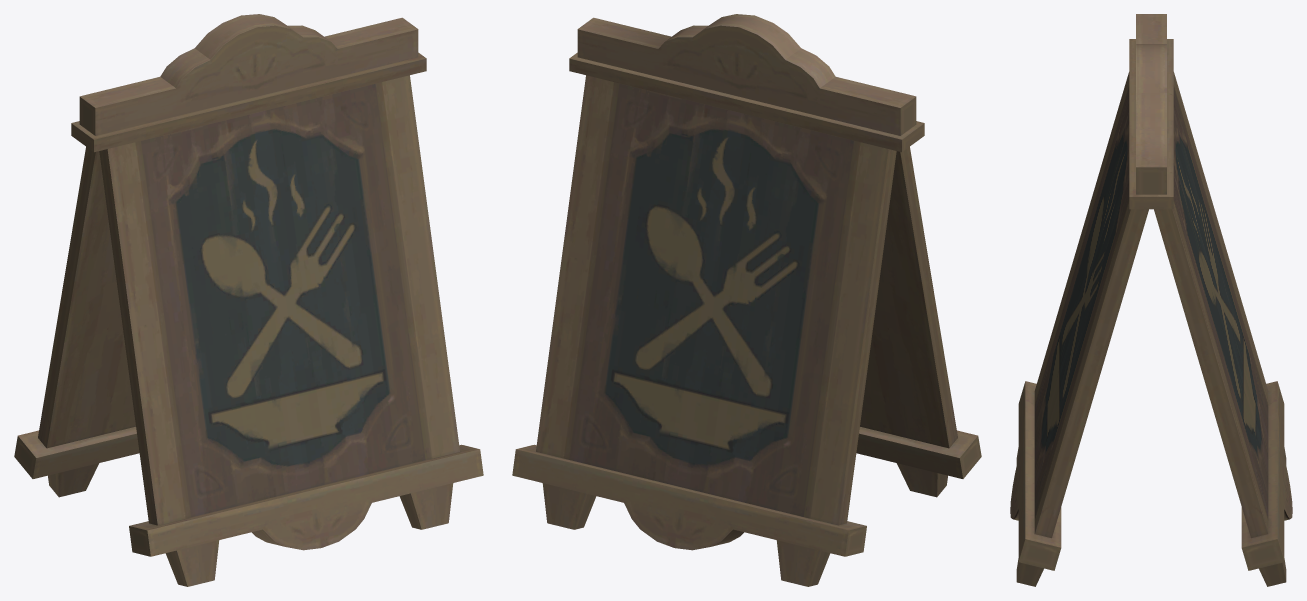
Rendered from Homeworld_Interior_Md_Decoration_Sign_03_Vo.fbx.
3 views of the same model, side by side, from view 1: azimuth 30°, elevation 25°; view 2: azimuth 150°, elevation 25°; view 3: azimuth 270°, elevation 25° (orthographic). The views are drawn at different scales.
Visible parts, largest first — view 1: Area_MdProps_Sign01_Vo; view 2: Area_MdProps_Sign01_Vo; view 3: Area_MdProps_Sign01_Vo.
Boxes of the visible parts, left/top/right/bottom form: Area_MdProps_Sign01_Vo: left=14, top=14, right=483, bottom=586; Area_MdProps_Sign01_Vo: left=512, top=14, right=981, bottom=586; Area_MdProps_Sign01_Vo: left=1010, top=14, right=1292, bottom=586.
Bounding box in the file's own units: 1.1 × 1.54 × 0.8315.
Materials: 1 (1 with a texture image).
